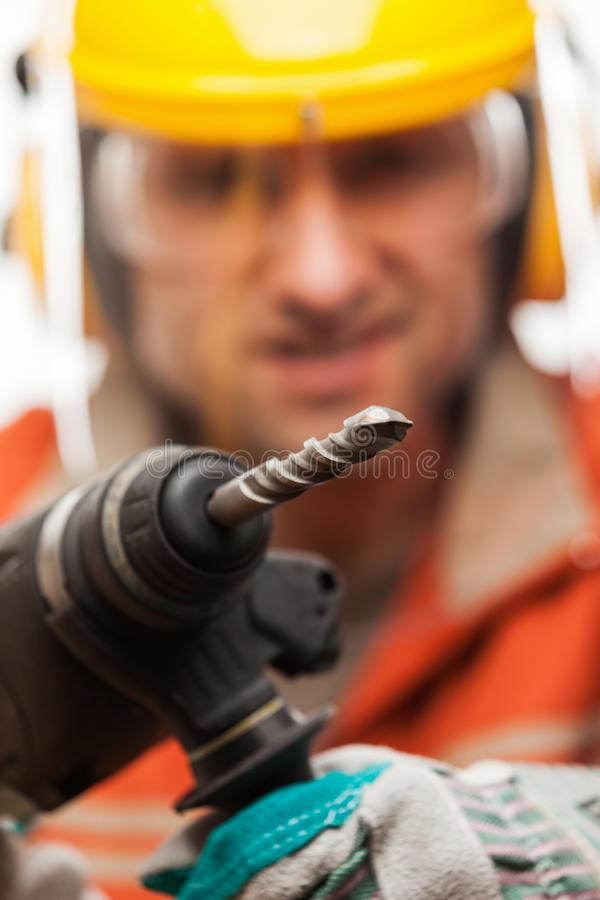helmet: (65, 1, 562, 253)
